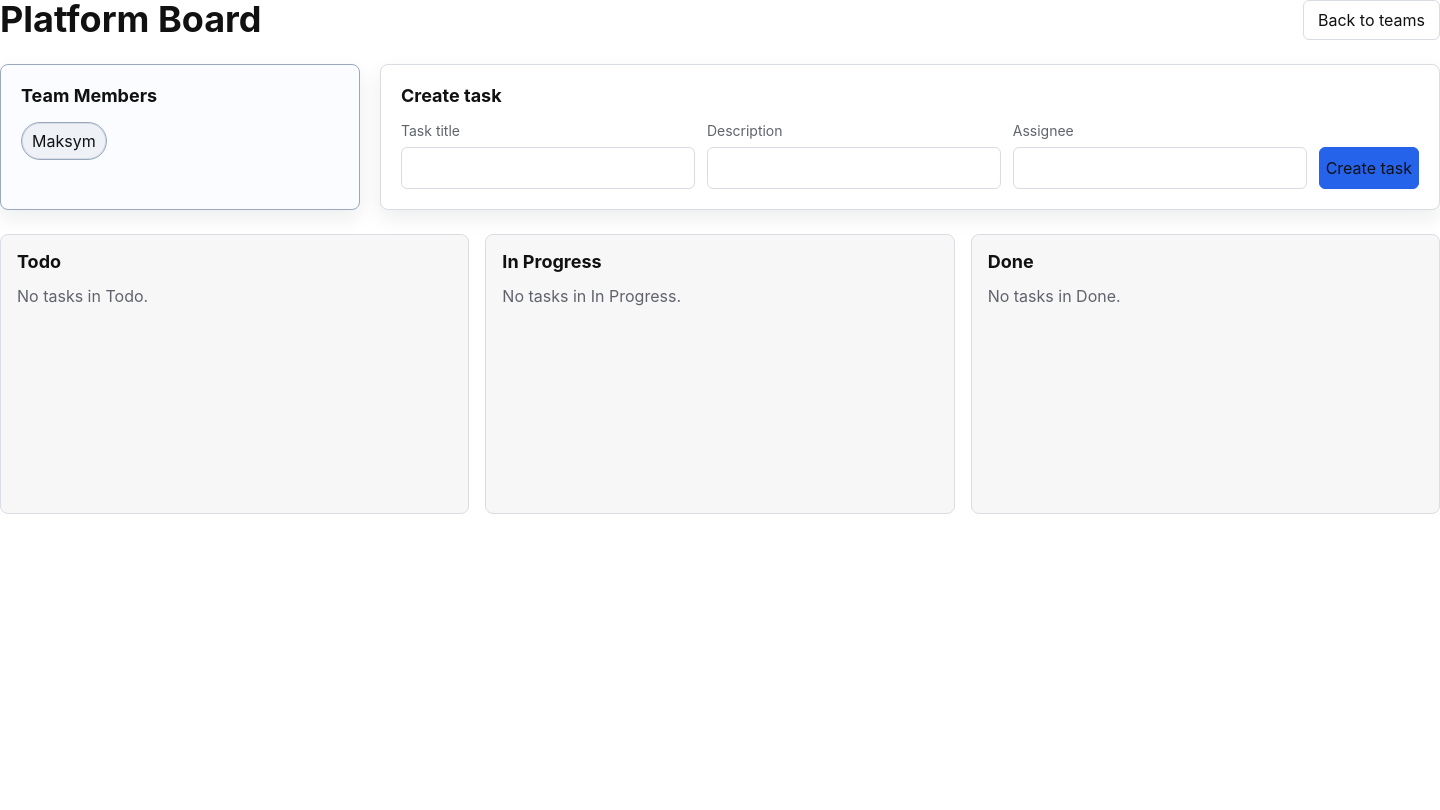
it: a team member can edit task details from the board and see the persisted card state
Type "Draft card" into the field labelled "Task title".
click(548, 168); type("Draft card")  # box [401,147,695,189]
Click the button "Create task".
click(1369, 168)  # box [1319,147,1419,189]
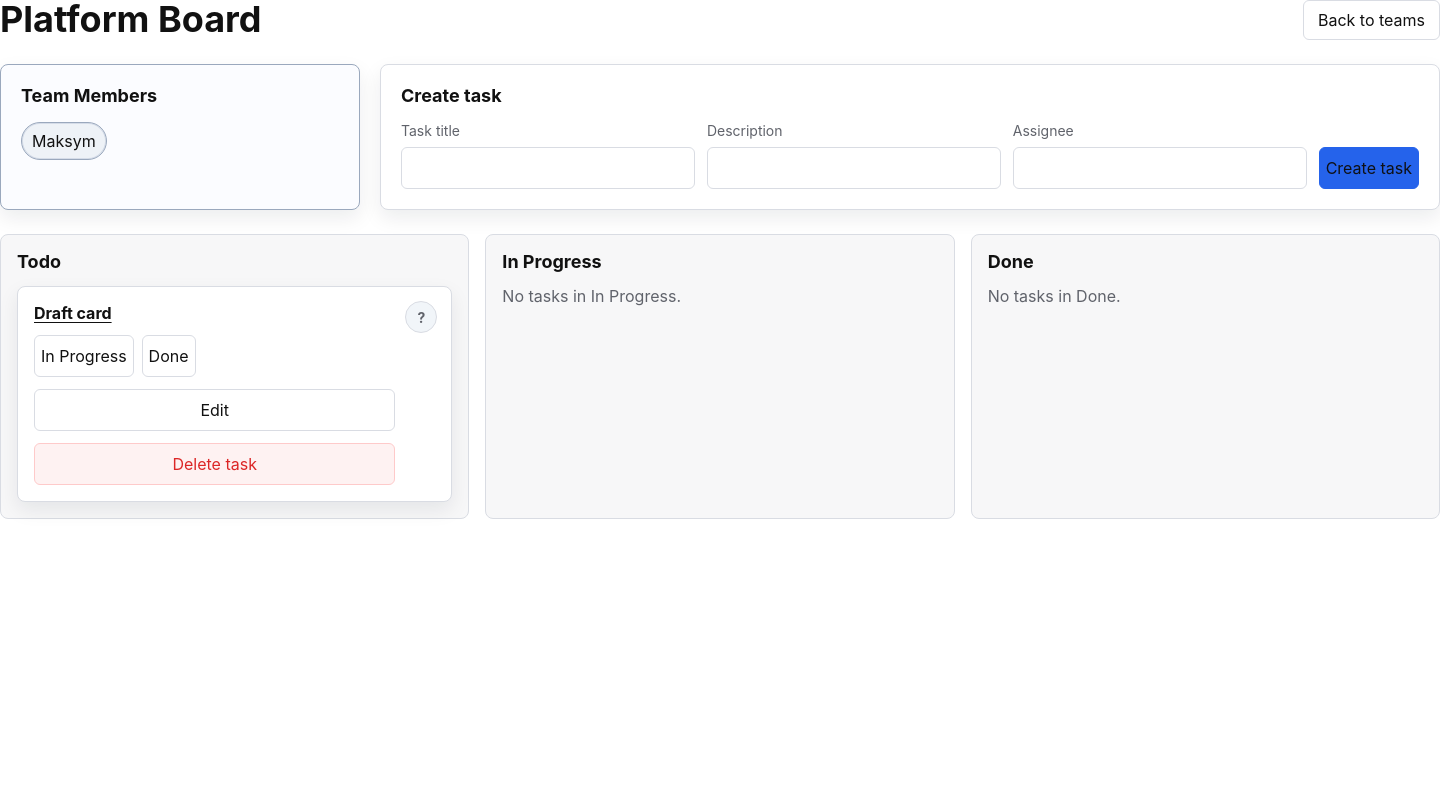
Click the button with aria-label "Edit Draft card".
click(215, 410)  # box [34,389,395,431]
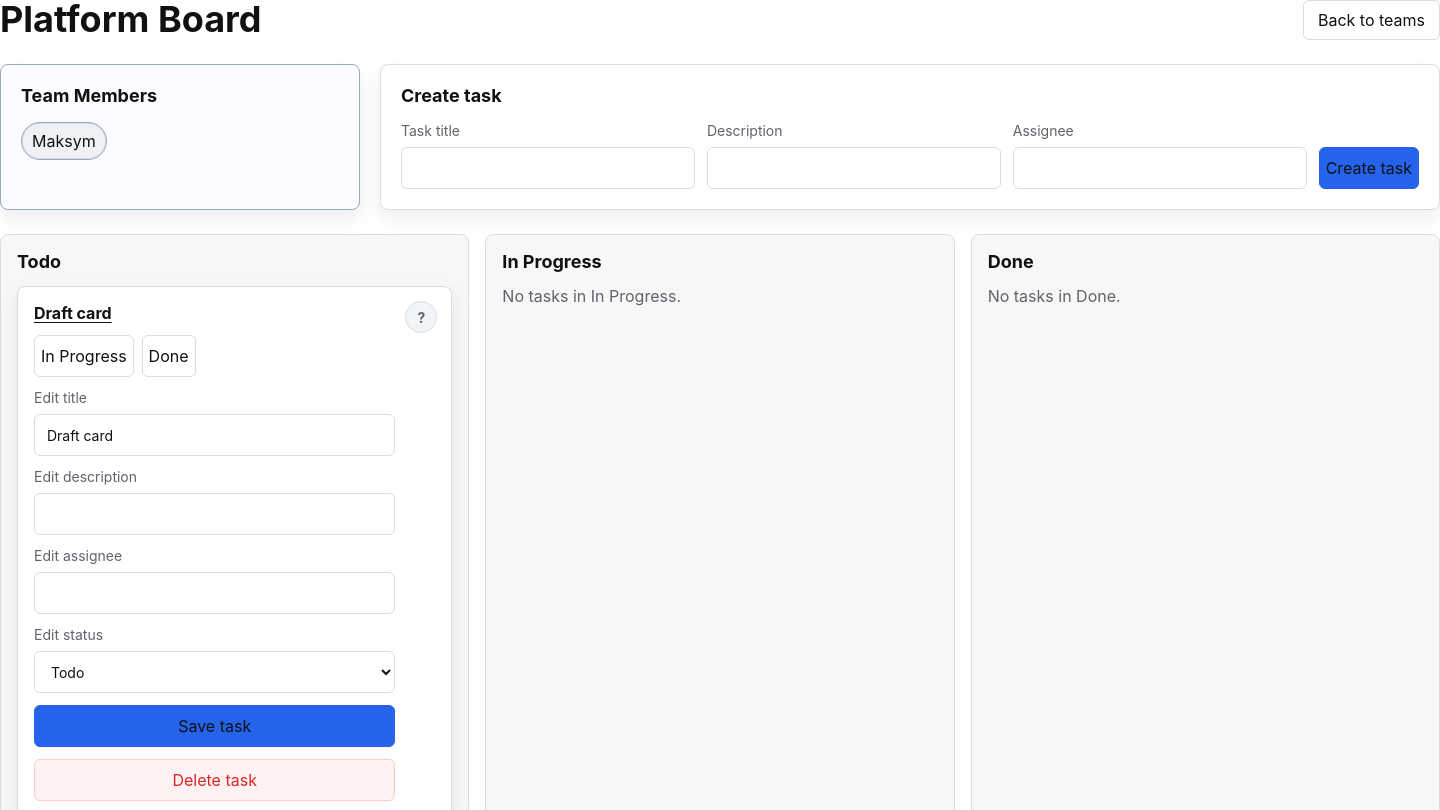
Replace the text in the field labelled "Edit title" with "Ready card" at (215, 435), box [34,414,395,456]
Type "Reviewed" into the field labelled "Edit description".
click(215, 514); type("Reviewed")  # box [34,493,395,535]
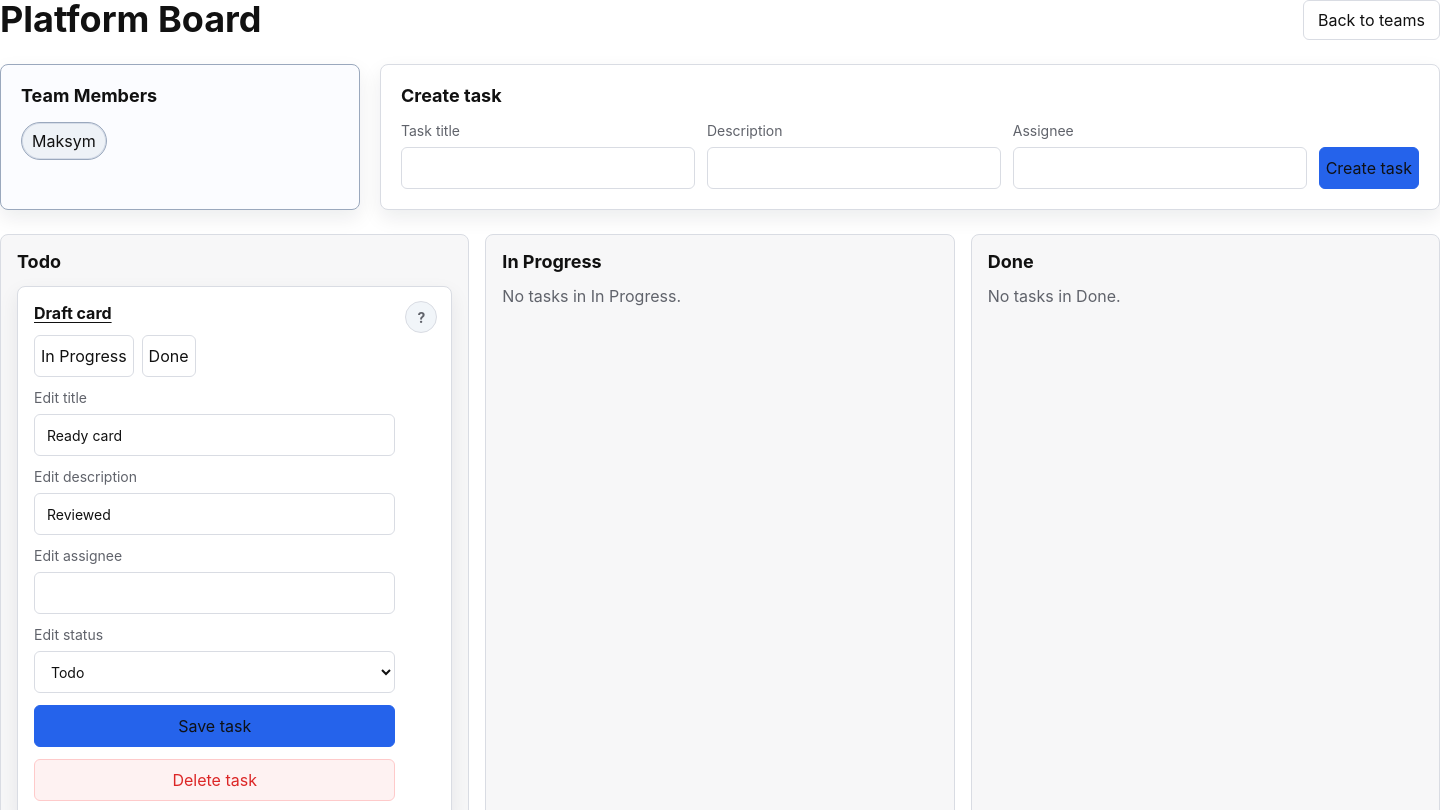
Type "maksym" into the field labelled "Edit assignee".
click(215, 593); type("maksym")  # box [34,572,395,614]
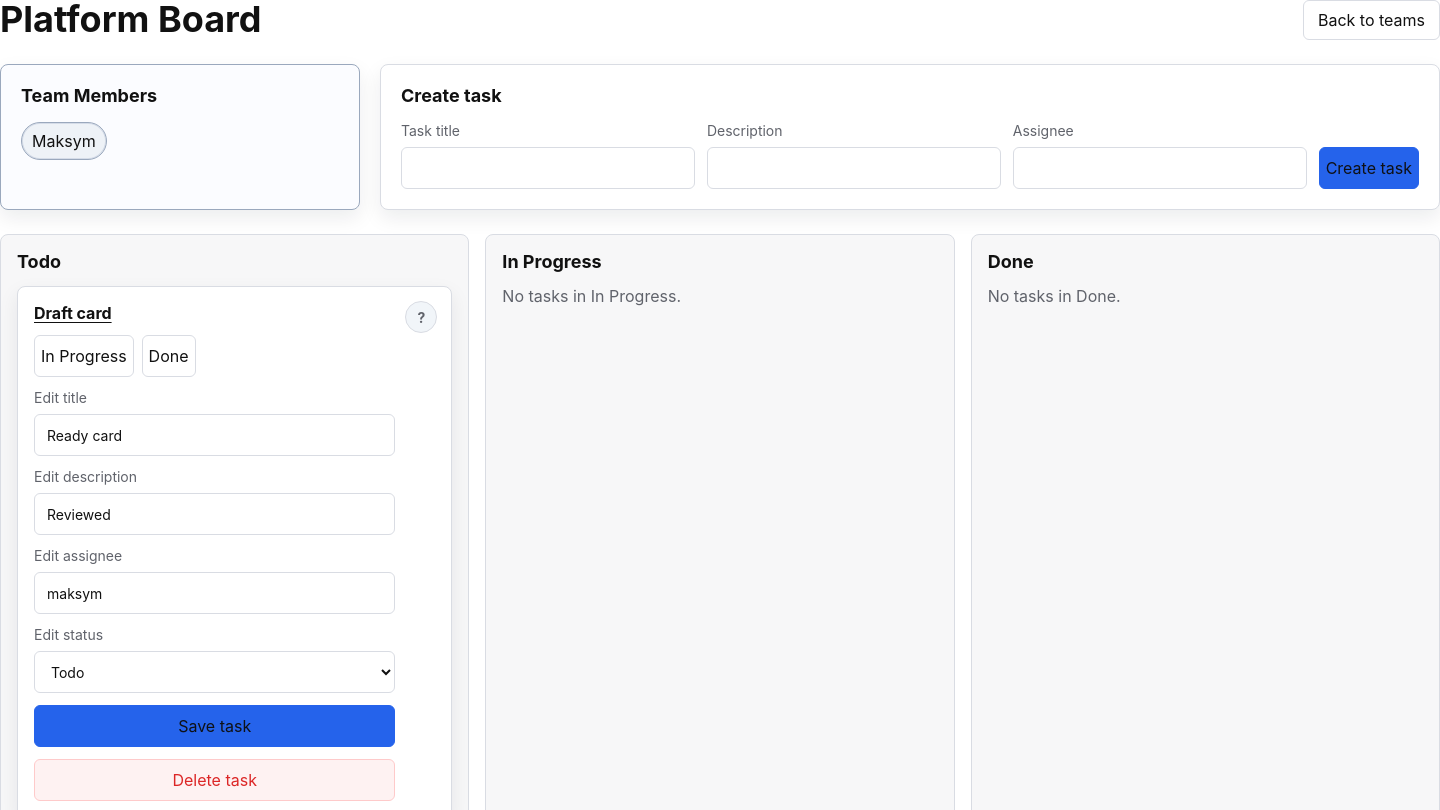
Select "In Progress" in the dropdown labelled "Edit status" at (215, 672), box [34,651,395,693]
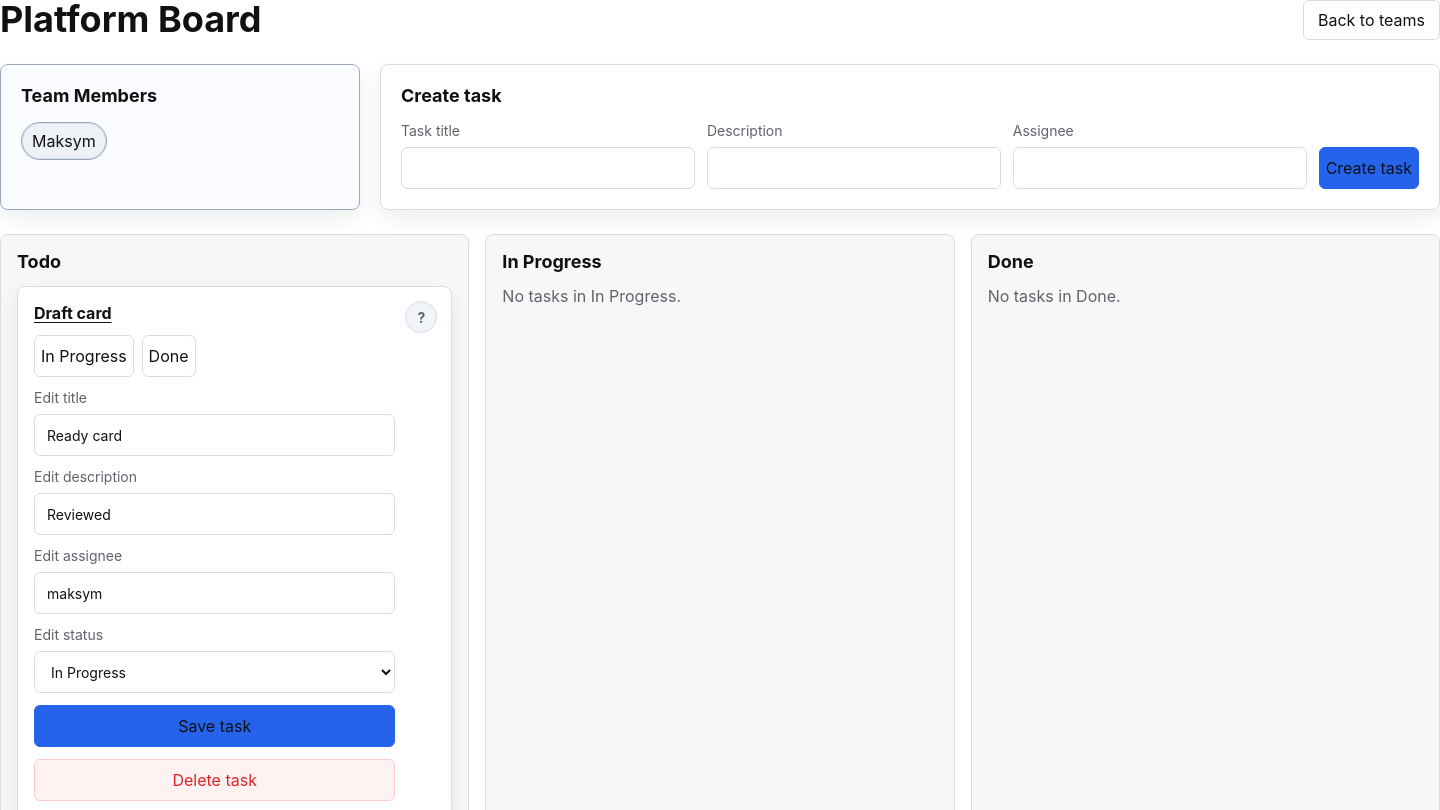
Click the button "Save task".
click(215, 726)  # box [34,705,395,747]
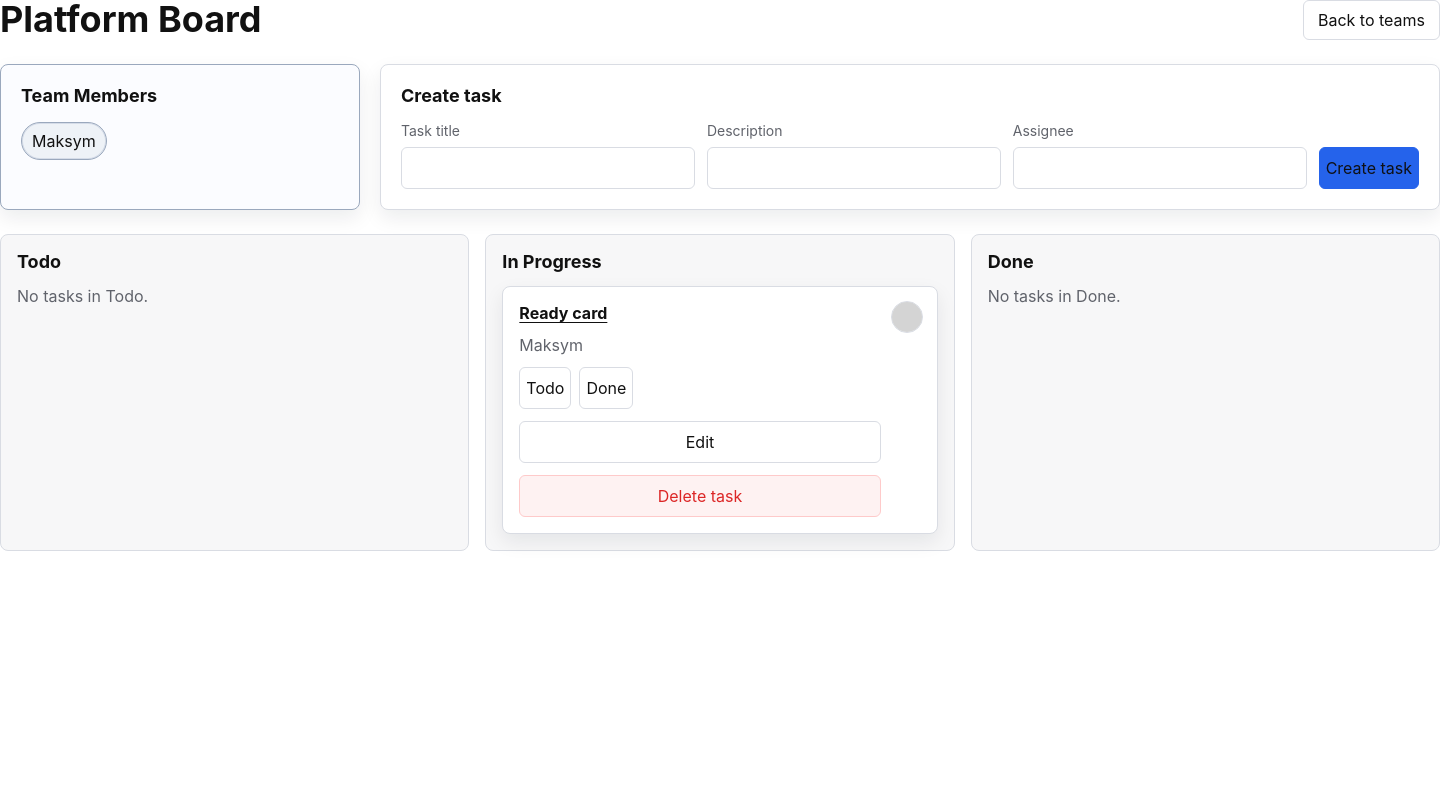
Expected: the list item "Maksym" is shown, [21,122,107,160]
Expected: the link "Ready card" is shown, [519,303,607,323]
Expected: the text "No tasks in In Progress." is gone
